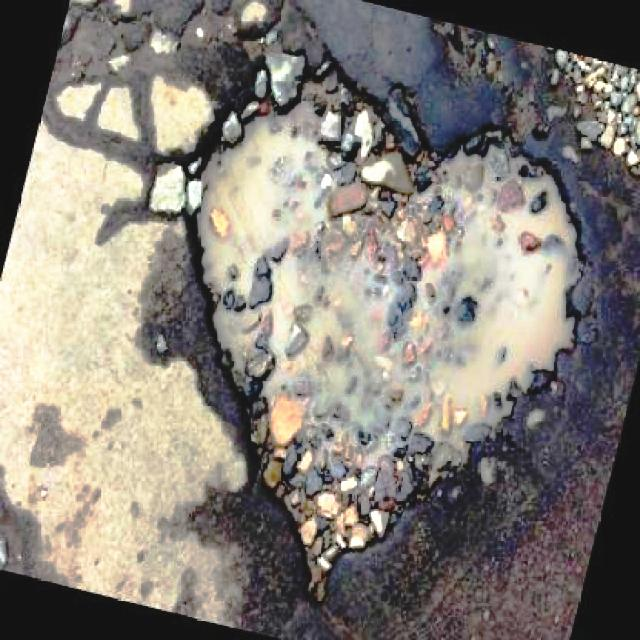pothole: (172, 44, 597, 610)
